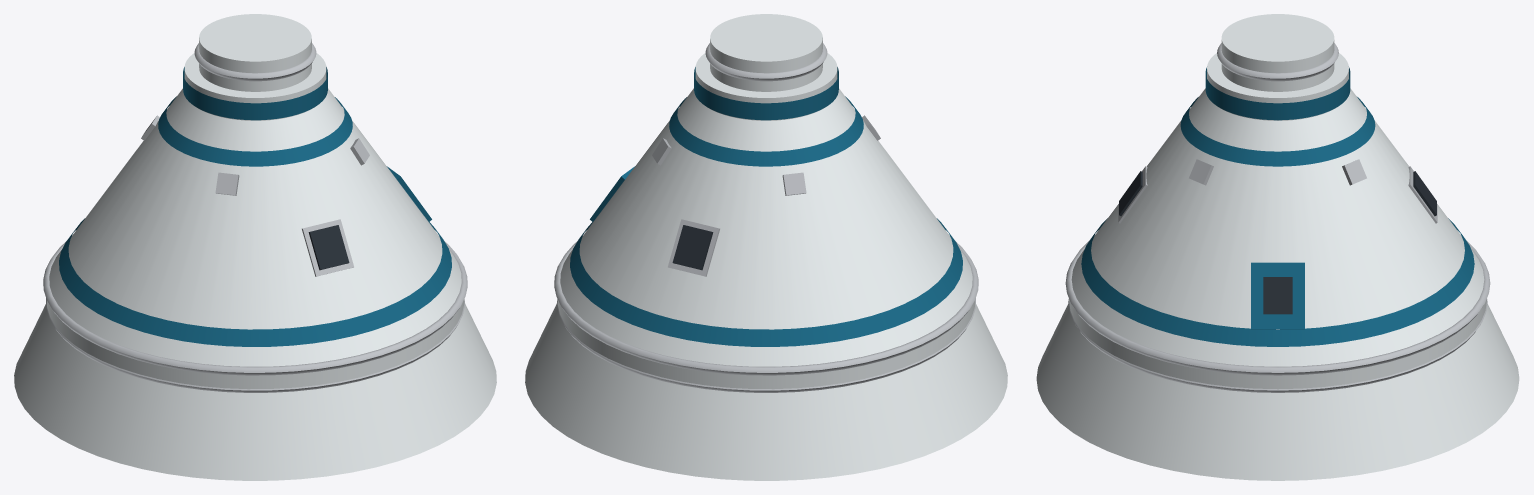
Rendered from cap_compact.glb.
The picture shows the model from 3 angles, left to right: view 1: azimuth 30°, elevation 25°; view 2: azimuth 150°, elevation 25°; view 3: azimuth 270°, elevation 25°; orthographic projection.
Parts seen in each view (by area): view 1: cap_compact_mesh; view 2: cap_compact_mesh; view 3: cap_compact_mesh.
Boxes of the visible parts, left/top/right/bottom form: cap_compact_mesh: left=14, top=14, right=496, bottom=480; cap_compact_mesh: left=525, top=14, right=1007, bottom=480; cap_compact_mesh: left=1036, top=14, right=1519, bottom=480.
Size of the model in its own units: 3.7 by 2.88 by 3.7.
